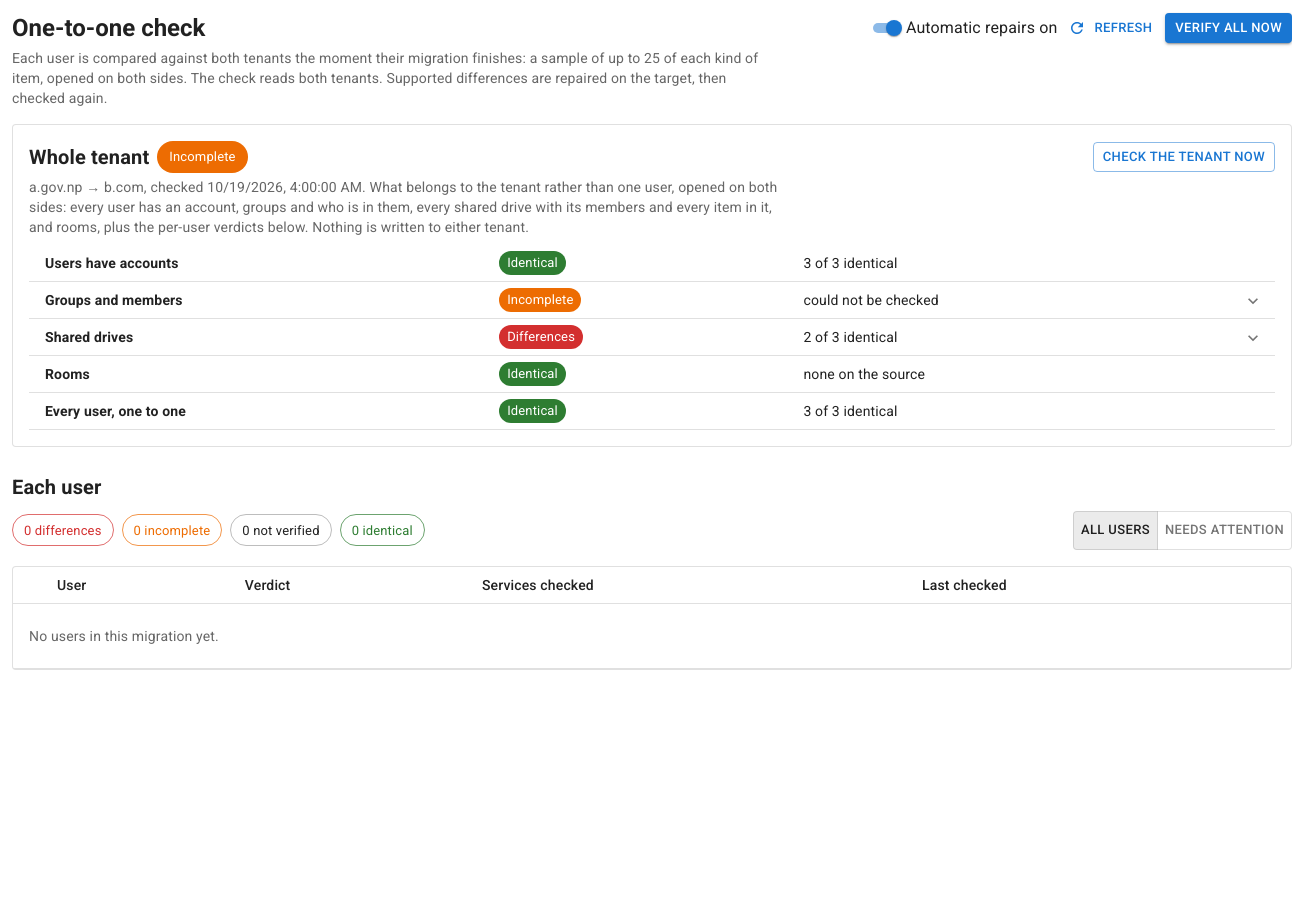
two checks: the whole tenant and each user › shows the tenant verdict, each tenant section, and a section nobody could check as incomplete
This screenshot has width=1304, height=912.
Expected: the element with test id "tenant-verdict" reads "Incomplete", [169, 149, 236, 164]
Expected: the heading "Each user" is shown, [12, 475, 102, 499]
What coordinates should you click on to do the following:
click the button named "details of Shared drives"
I would click on:
 (1253, 338)
Its box is [1243, 328, 1263, 348].
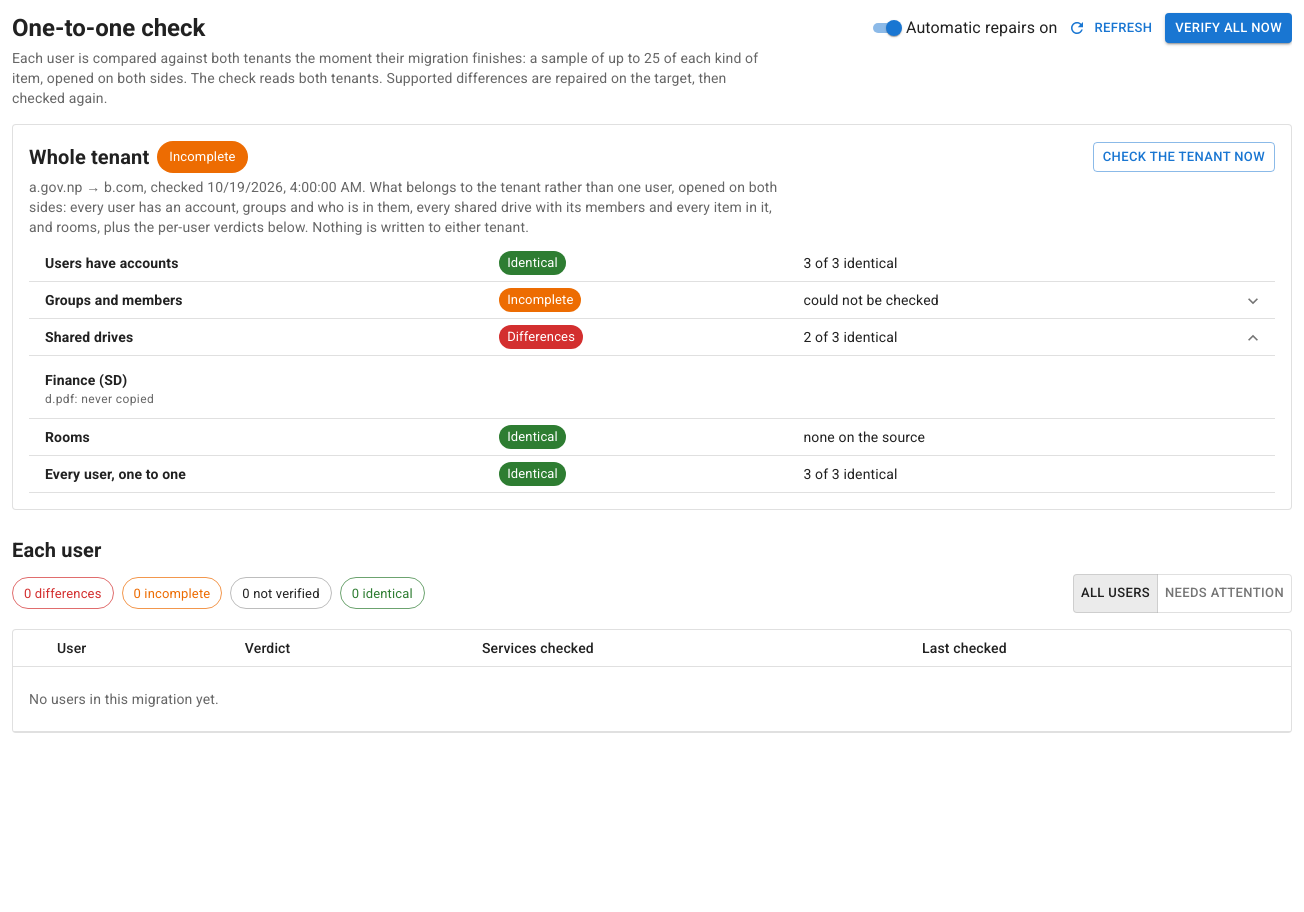
Expected: the text "d.pdf: never copied" is shown, [45, 392, 154, 406]
